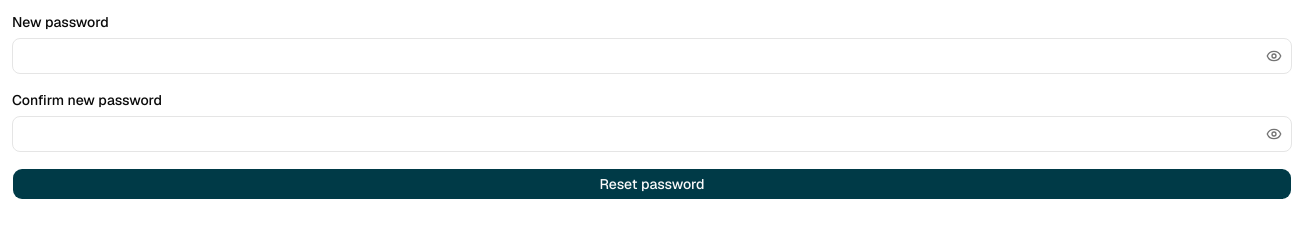
Scenario: ResetPasswordForm › shows a server rejection without claiming the reset succeeded
The width and height of the screenshot is (1304, 252).
Type "NewPassword123" into the password field labelled "New password". click: (652, 56)
box: [12,38,1292,74]
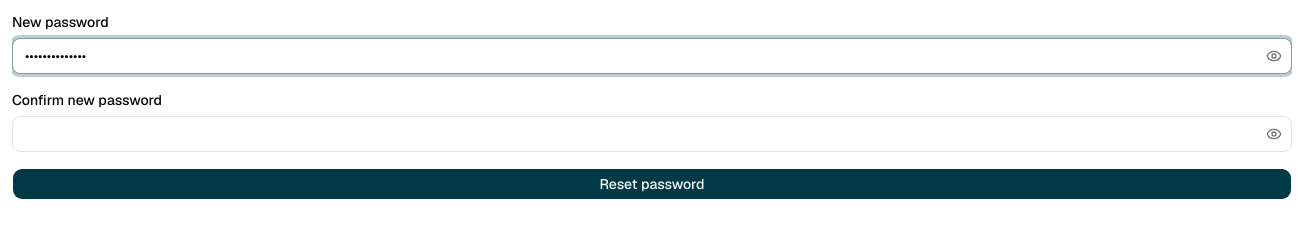
Type "NewPassword123" into the password field labelled "Confirm new password". click: (652, 134)
box: [12,116,1292,152]
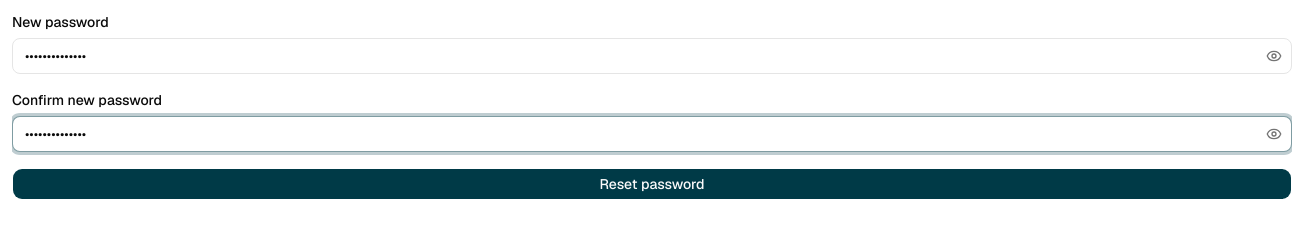
Click the button "Reset password". click: (652, 184)
box: [12,168,1292,200]
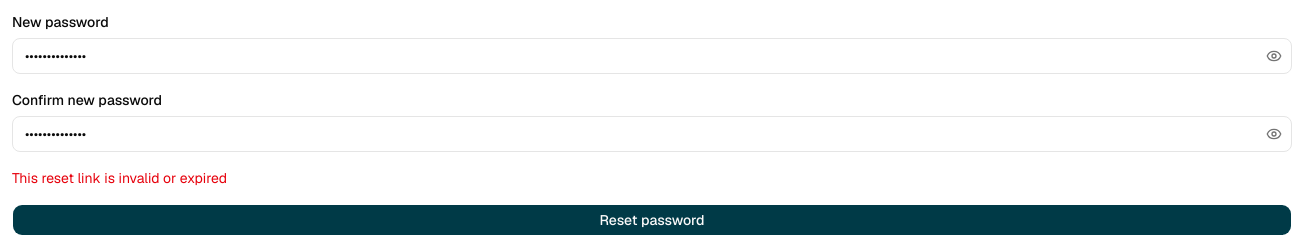
Expected: the text "This reset link is invalid or expired" is shown, [12,169,227,187]
